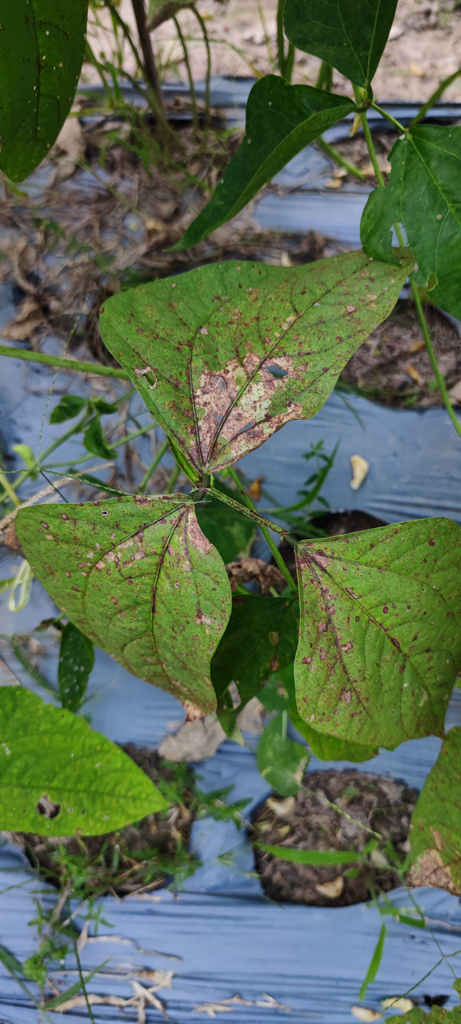Rust: (98, 251, 414, 481), (13, 490, 230, 728), (294, 519, 449, 753), (400, 767, 459, 898)
